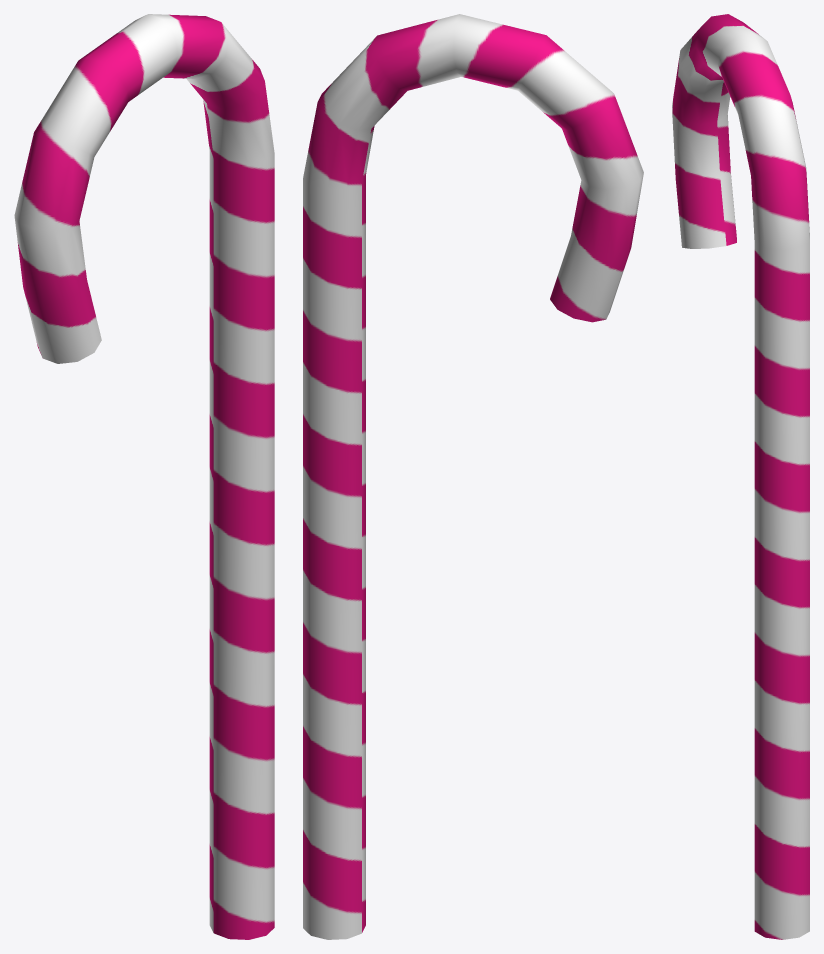
File: candycane pink.fbx
The picture shows the model from 3 angles, left to right: view 1: azimuth 30°, elevation 25°; view 2: azimuth 150°, elevation 25°; view 3: azimuth 270°, elevation 25°; orthographic projection. The views are drawn at different scales.
Visible parts, largest first — view 1: candycane_pink; view 2: candycane_pink; view 3: candycane_pink.
Boxes of the visible parts, <box> form: candycane_pink: <box>14,14,274,939</box>; candycane_pink: <box>303,14,643,939</box>; candycane_pink: <box>672,14,809,939</box>.
Bounding box in the file's own units: 4.96 × 15.13 × 2.23.
1 material, 1 textured.
